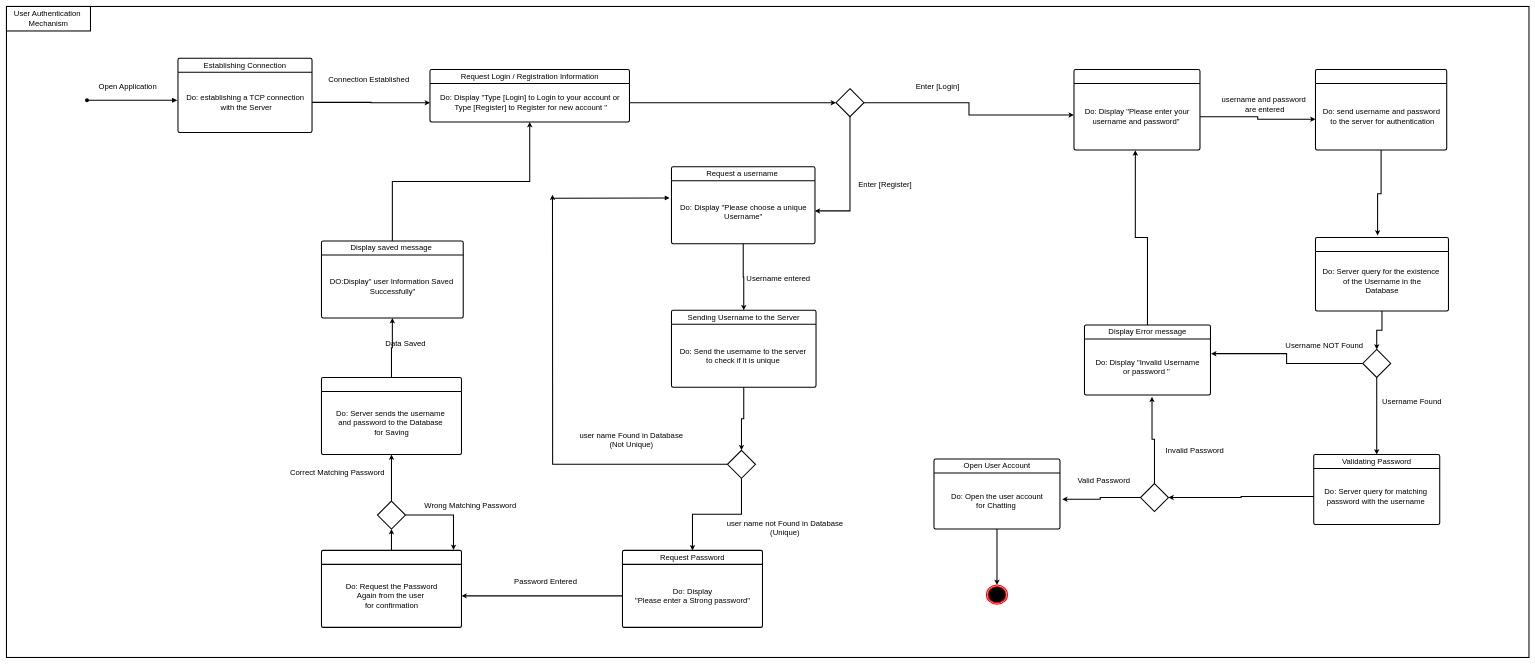
This 1535x664 diagram has some shape labels left out. The shapes that lost their labels are listed below. From the top down, each one's box as (x1, y1, x2, y2) in pixels, then its label:
(1073, 69, 1200, 150): Display Requesting Login information
(1315, 69, 1447, 150): Sending user Data to Server
(1315, 237, 1449, 311): Validating Username
(321, 377, 462, 455): Saving Data
(321, 550, 462, 628): Confirm Password
